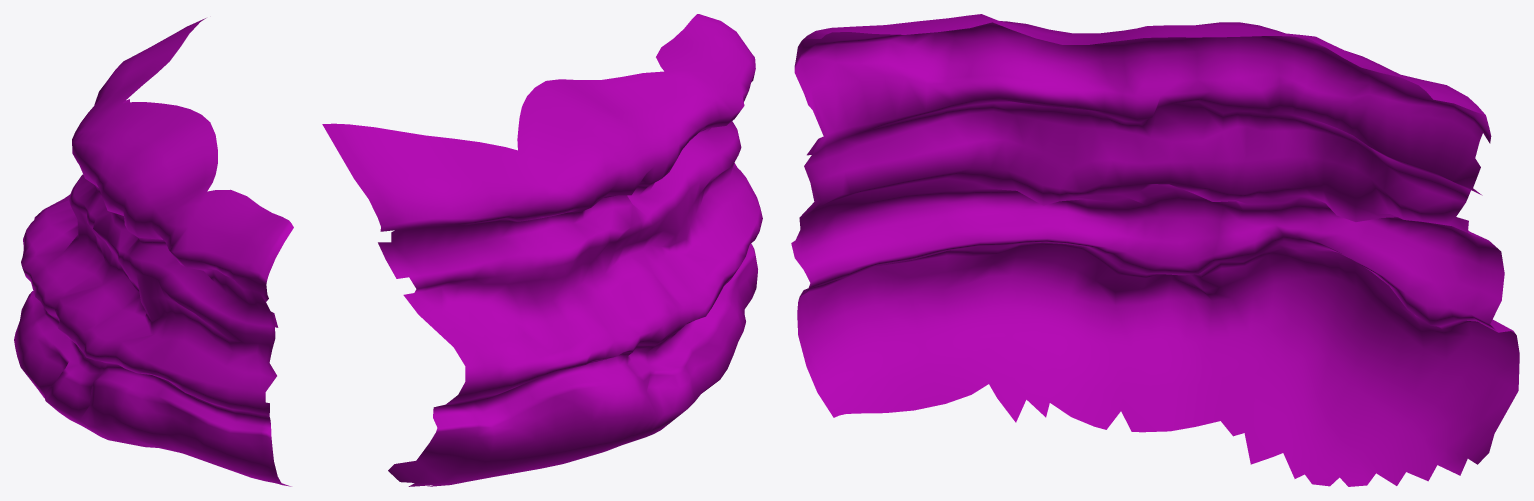
File: Cave_Wall.fbx
3 views of the same model, side by side, from view 1: azimuth 30°, elevation 25°; view 2: azimuth 150°, elevation 25°; view 3: azimuth 270°, elevation 25° (orthographic). The views are drawn at different scales.
Parts seen in each view (by area): view 1: Cave_Wall; view 2: Cave_Wall; view 3: Cave_Wall.
Part boxes in pixels (x1,y1,x2,y2): Cave_Wall: (14,18,293,486); Cave_Wall: (322,14,762,486); Cave_Wall: (791,14,1519,486).
Size of the model in its own units: 66.06 by 80.33 by 115.
